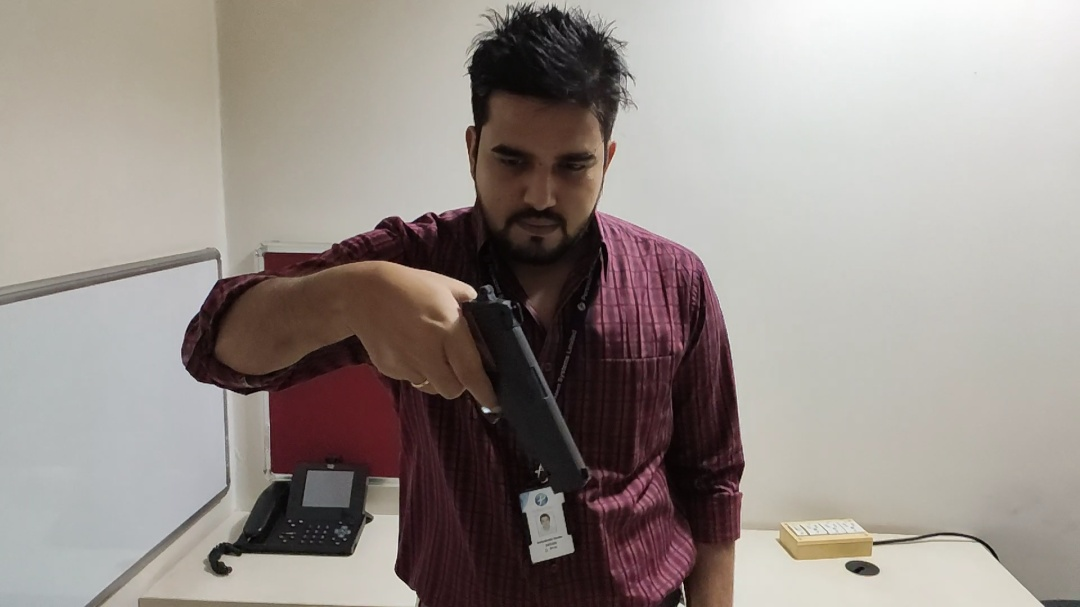gun: (411, 284, 603, 494)
